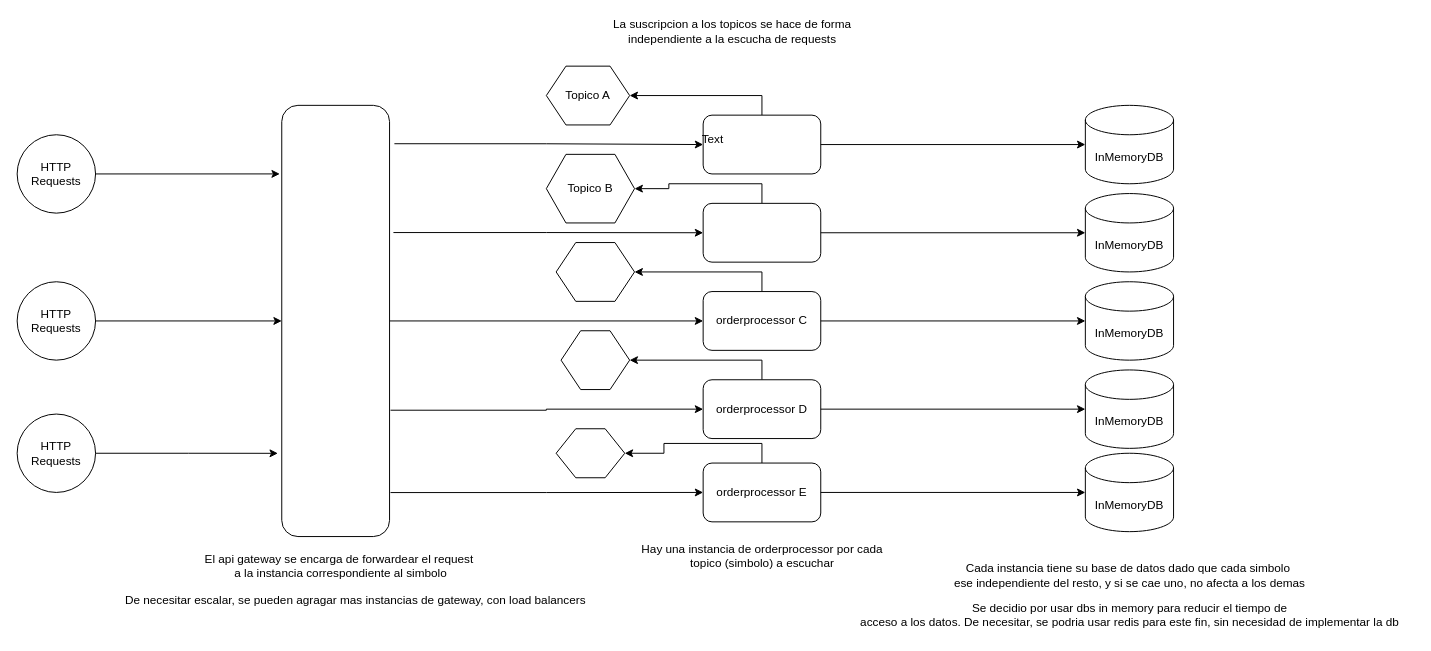
This 1431x651 diagram has some shape labels left out. The box of each missing label's shape, as (x1, y1, x2, y2) in pixels:
API Gateway: (281, 104, 390, 537)
orderprocessor A: (702, 114, 821, 174)
orderprocessor B: (702, 202, 821, 262)
Topico C: (555, 242, 635, 301)
Topico D: (560, 330, 630, 390)
Topico E: (555, 428, 625, 478)
